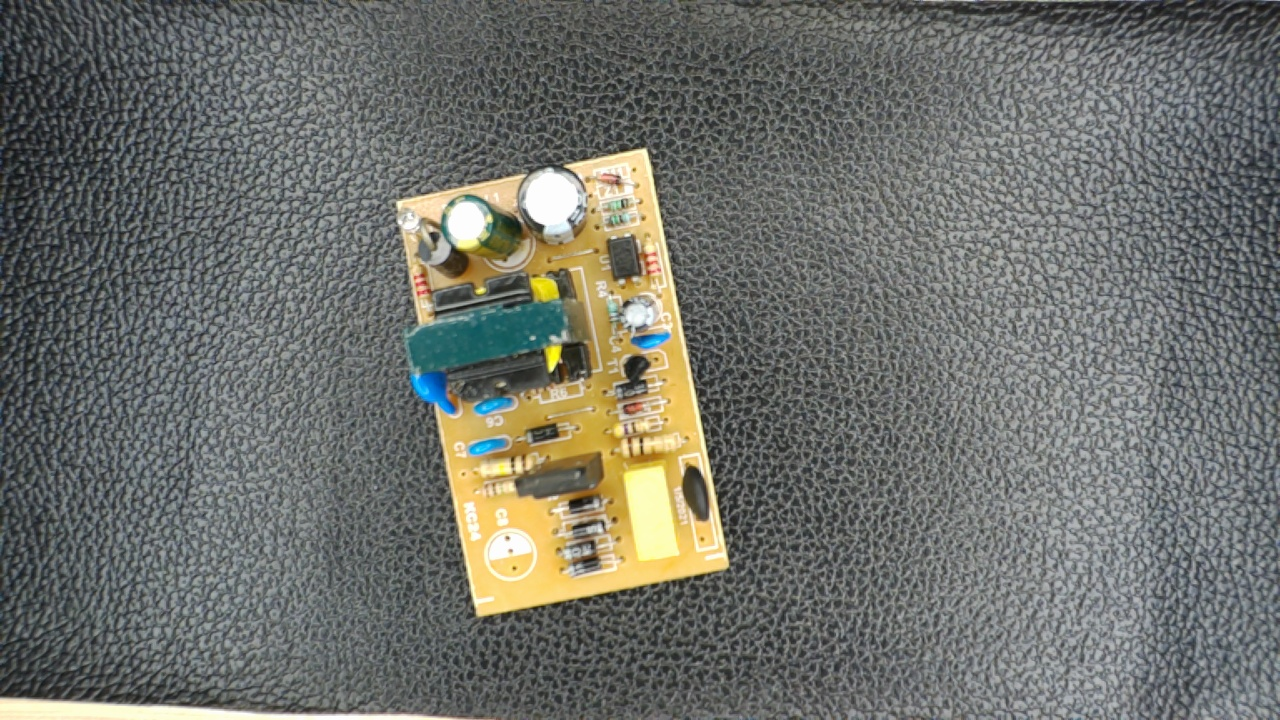fuse: (675, 458, 719, 533)
mov: (408, 363, 461, 423)
optocoupler: (602, 228, 648, 285)
